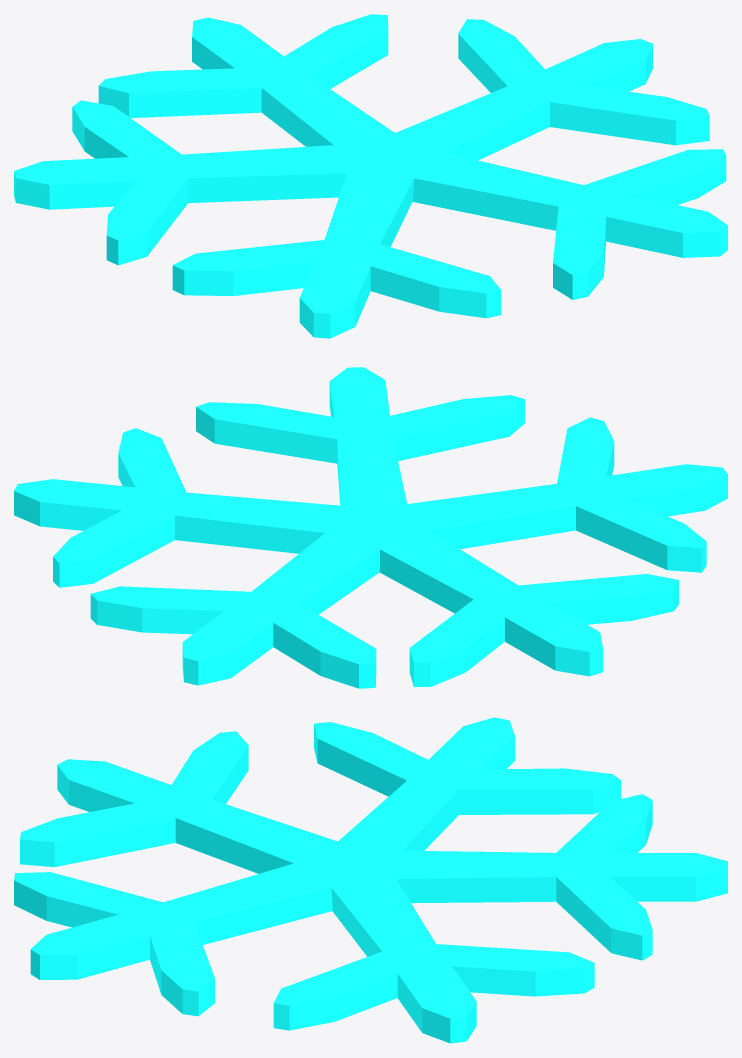
The model's file is Snowflake3.fbx.
3 renders of one model, top to bottom at view 1: azimuth 30°, elevation 25°; view 2: azimuth 150°, elevation 25°; view 3: azimuth 270°, elevation 25°, orthographic.
Parts seen in each view (by area): view 1: SnowFlake; view 2: SnowFlake; view 3: SnowFlake.
Part boxes in pixels (x1=…): SnowFlake: x1=14, y1=14, x2=727, y2=338; SnowFlake: x1=14, y1=367, x2=727, y2=688; SnowFlake: x1=14, y1=717, x2=727, y2=1043.
Size of the model in its own units: 415 by 16 by 416.
